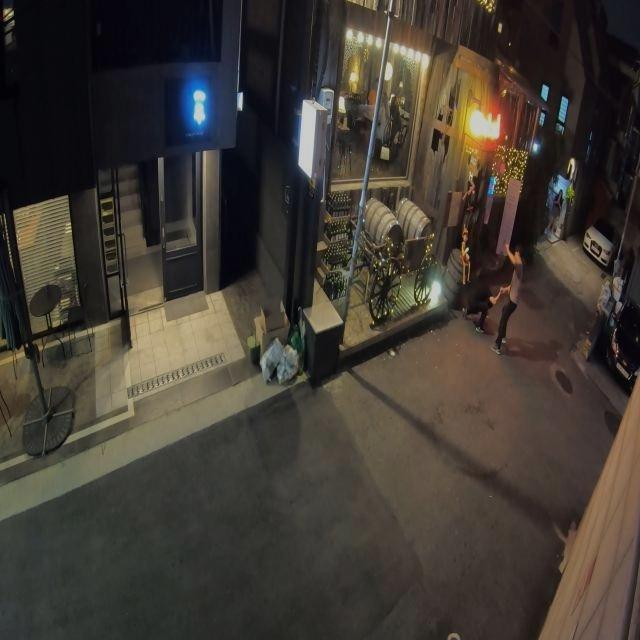fight: (460, 230, 536, 354)
